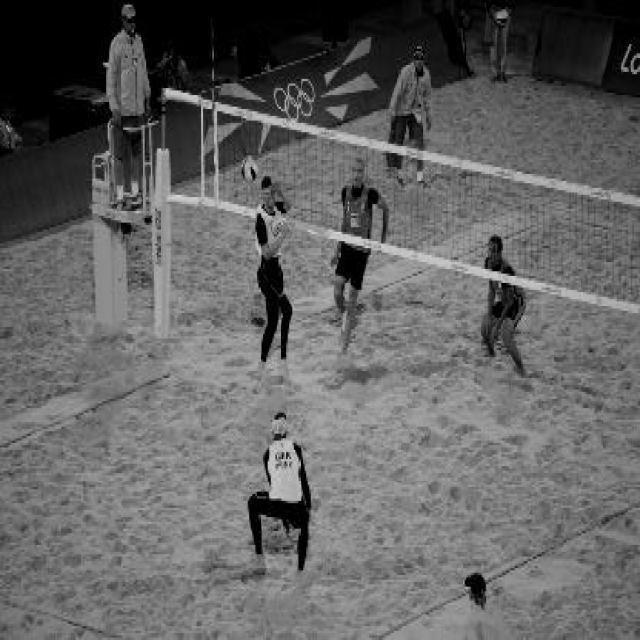volleyball: (240, 154, 259, 182)
